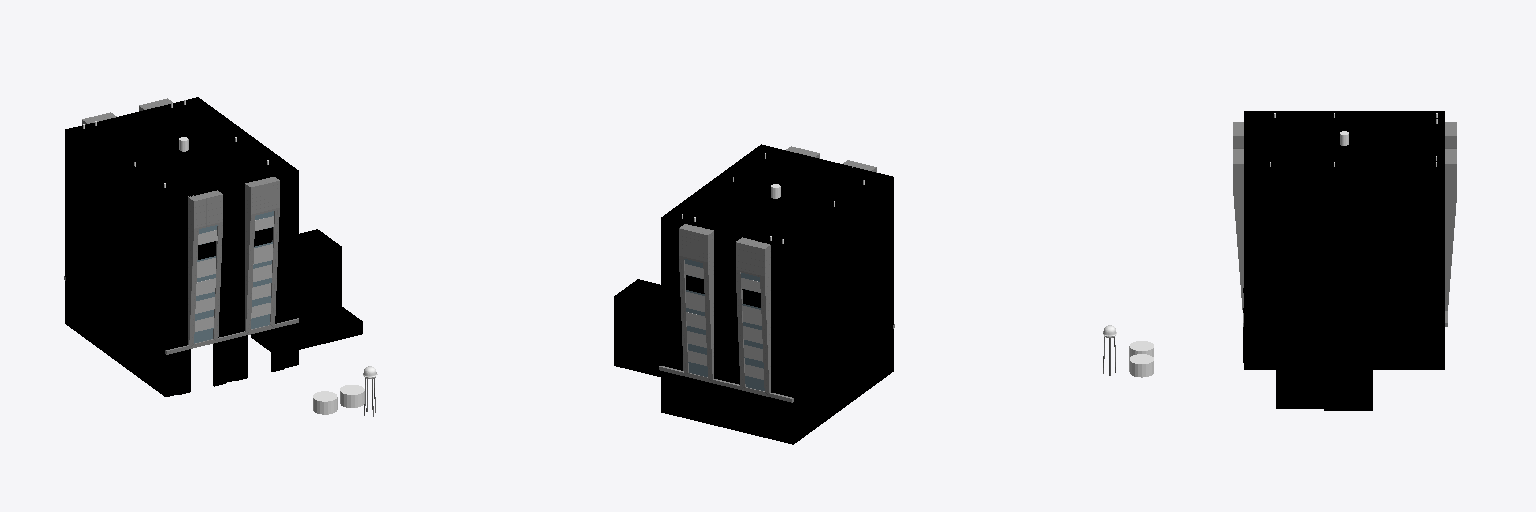
The picture shows the model from 3 angles: view 1: azimuth 30°, elevation 25°; view 2: azimuth 150°, elevation 25°; view 3: azimuth 270°, elevation 25°; orthographic projection.
Parts seen in each view (by area): view 1: pCube1, polySurface41, pCube22, pCube9, pCube24, pCube18, pCube20, pCube21, pCube19, pCylinder19, pCylinder20; view 2: pCube1, polySurface42, pCube9; view 3: pCube1, pCube9, pCube22, polySurface42, polySurface41, pCylinder20.
Boxes of the visible parts, box(x1,y1,x2,y2) form: pCube1: box(65, 97, 298, 396); polySurface41: box(165, 177, 298, 354); pCube22: box(251, 305, 362, 351); pCube9: box(299, 229, 341, 305); pCube24: box(299, 274, 340, 310); pCube18: box(178, 349, 190, 394); pCube20: box(235, 335, 247, 380); pCube21: box(271, 326, 283, 371); pCube19: box(213, 341, 225, 386); pCylinder19: box(313, 391, 337, 414); pCylinder20: box(340, 385, 364, 407); pCube1: box(661, 144, 893, 444); polySurface42: box(659, 224, 793, 402); pCube9: box(614, 279, 660, 376); pCube1: box(1244, 111, 1444, 369); pCube9: box(1324, 301, 1372, 410); pCube22: box(1276, 358, 1323, 408); polySurface42: box(1445, 122, 1456, 326); polySurface41: box(1233, 122, 1243, 326); pCylinder20: box(1129, 354, 1153, 377).
Size of the model in its own units: 15.01 by 13.7 by 21.34.
Materials: 9 (1 with a texture image).